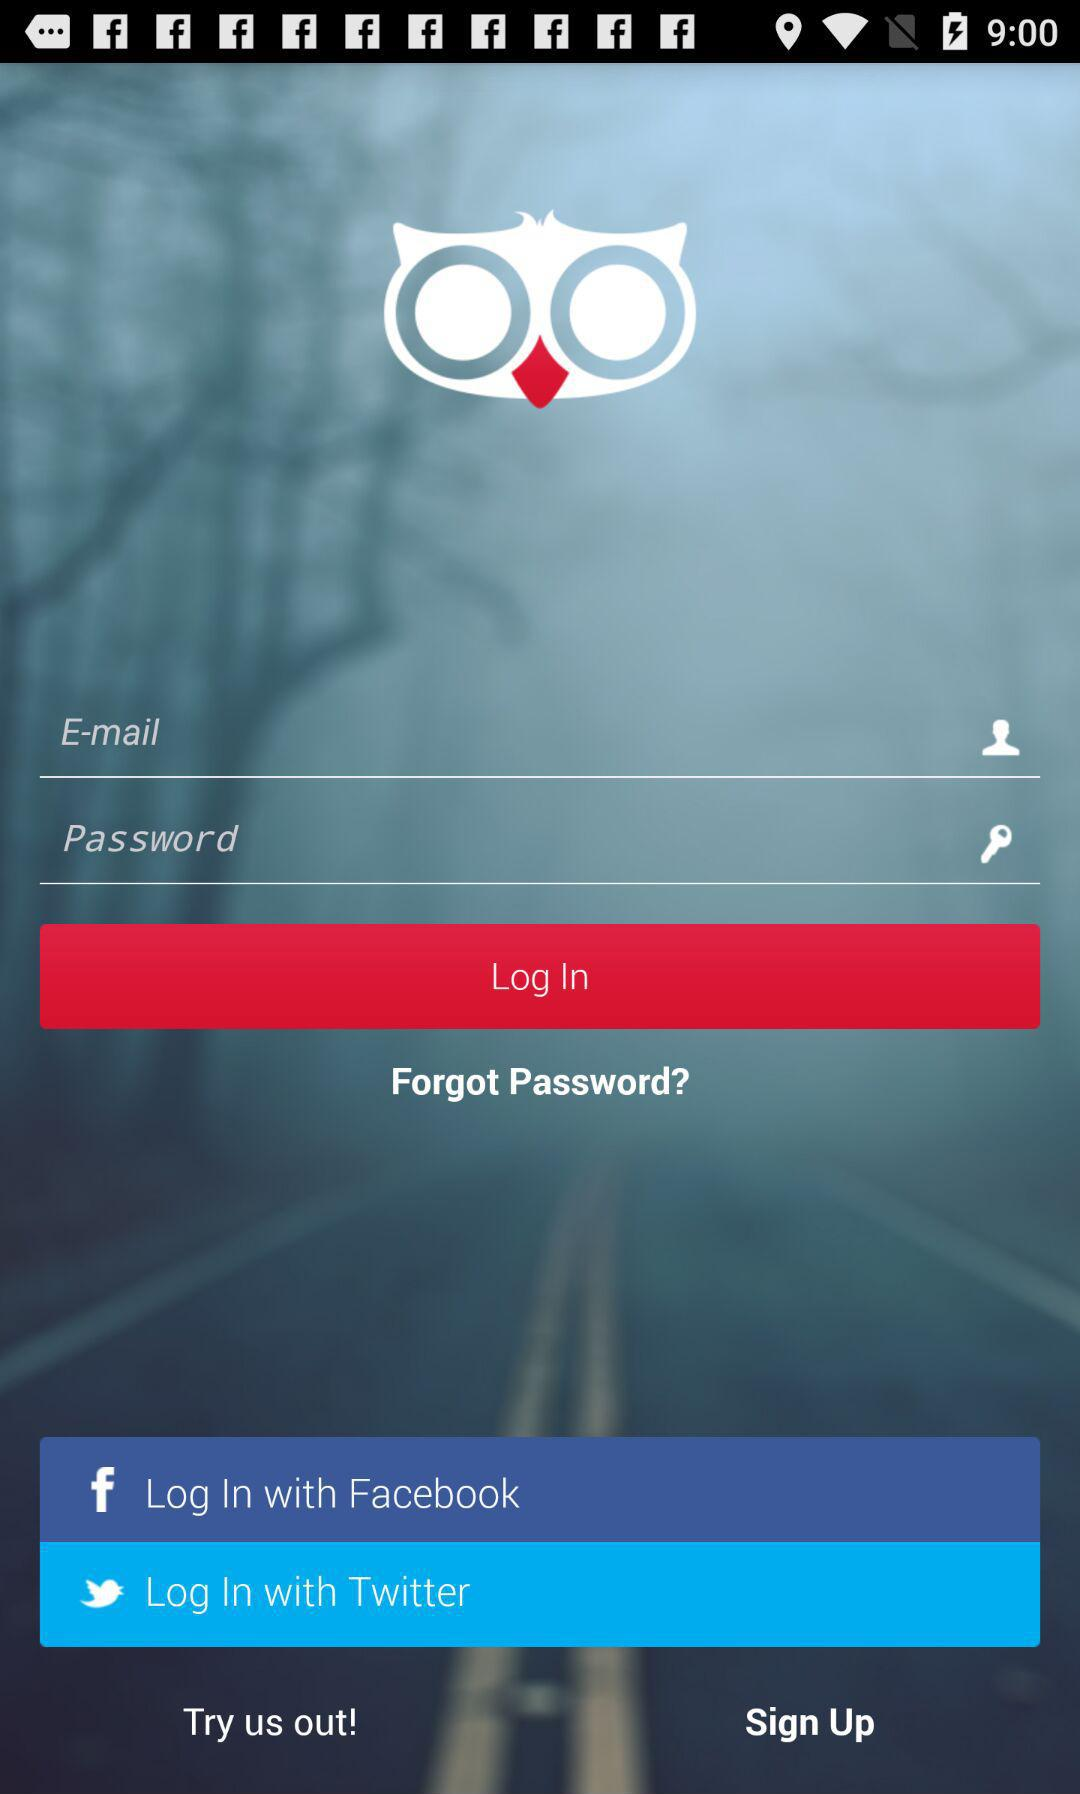EditText: (40, 823, 1042, 885), (40, 718, 1042, 779)
Icon: (981, 719, 1020, 759)
Image: (383, 208, 698, 413), (979, 824, 1013, 865)
Text: (392, 1065, 691, 1105), (183, 1707, 357, 1743), (64, 824, 241, 853), (746, 1706, 875, 1745), (63, 718, 161, 747)
TextButton: (40, 1542, 1042, 1648), (40, 924, 1042, 1030), (40, 1436, 1042, 1542)
UpperTaskBar: (1, 1, 1080, 64)
